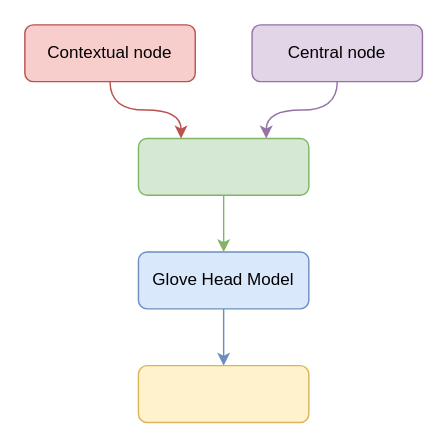
Image size: 447x447. Some labels were removed from this diagram. Each missing label, with the box of its shape:
Co-occurence frequency: (137, 364, 309, 422)
Node Embedding Layer: (137, 137, 309, 195)
